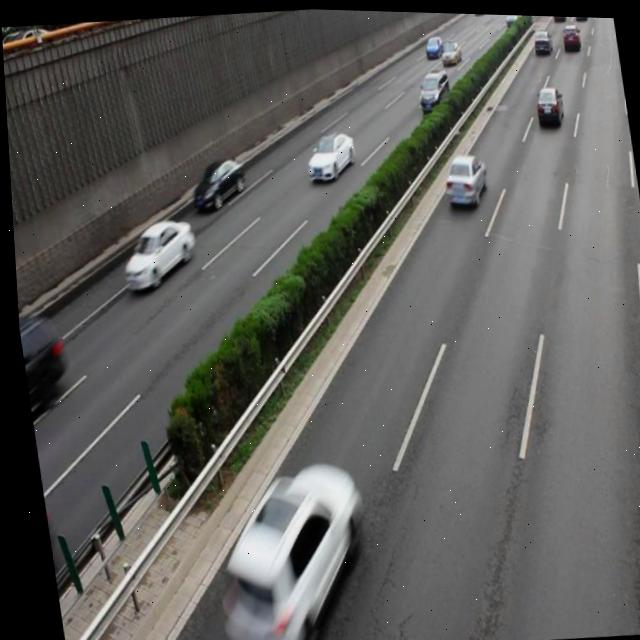car: (200, 457, 369, 640), (112, 214, 197, 293), (185, 152, 247, 212), (301, 124, 357, 182), (436, 148, 486, 206), (529, 81, 563, 127)
truck: (14, 311, 66, 417), (413, 65, 451, 109)
